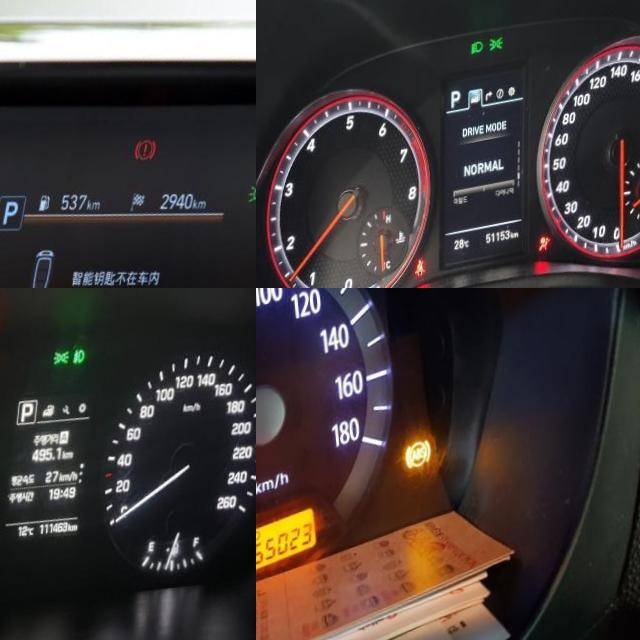FrontFogLight: (71, 361, 85, 380)
Low beam: (469, 54, 482, 68)
SideLamp: (52, 361, 70, 380), (245, 199, 256, 226), (489, 51, 502, 67)
